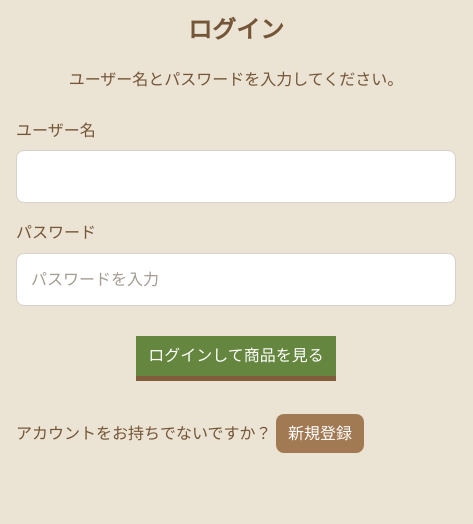
Test case: AuthPage › 429ではRetry-Afterの待機時間をフォームに表示し、自動再送しない
Type "member" into the field labelled "ユーザー名" at (236, 177), box [16,150,456,203]
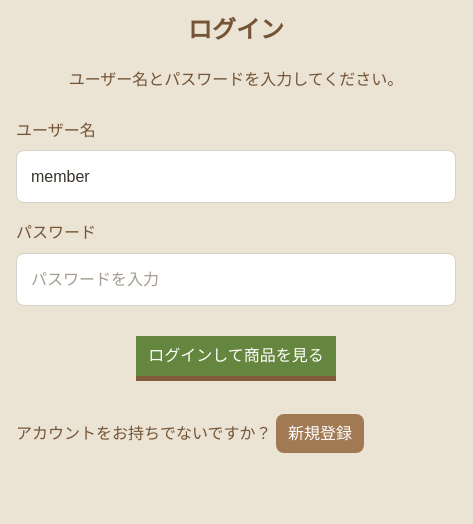
Type "password123" into the password field labelled "パスワード" at (236, 279), box [16,252,456,306]
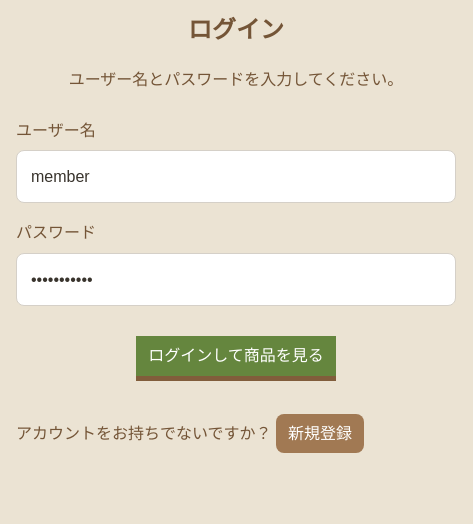
Click the button "ログインして商品を見る" at (236, 356), box [136,336,336,376]
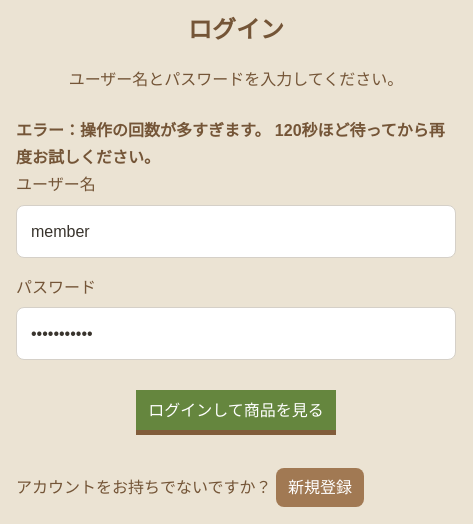
Result: the message reads "操作の回数が多すぎます。 120秒ほど待ってから再度お試しください。" at [16,122,445,166]
